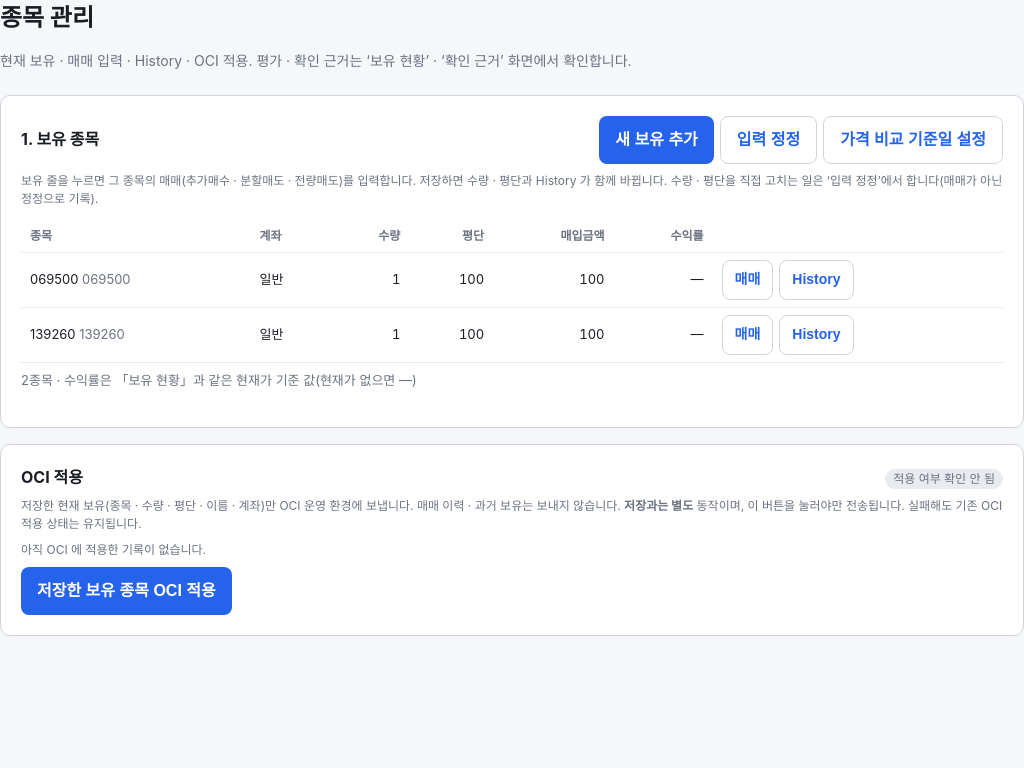
it: #1 비동기 종목명 조회가 정렬·삭제 후 엉뚱한 행을 안 건드린다 › 조회 진행 중 행이 삭제되면 늦게 온 응답은 어떤 행에도 적용되지 않는다
Click the button "입력 정정".
click(768, 140)  # box left=720, top=116, right=817, bottom=164
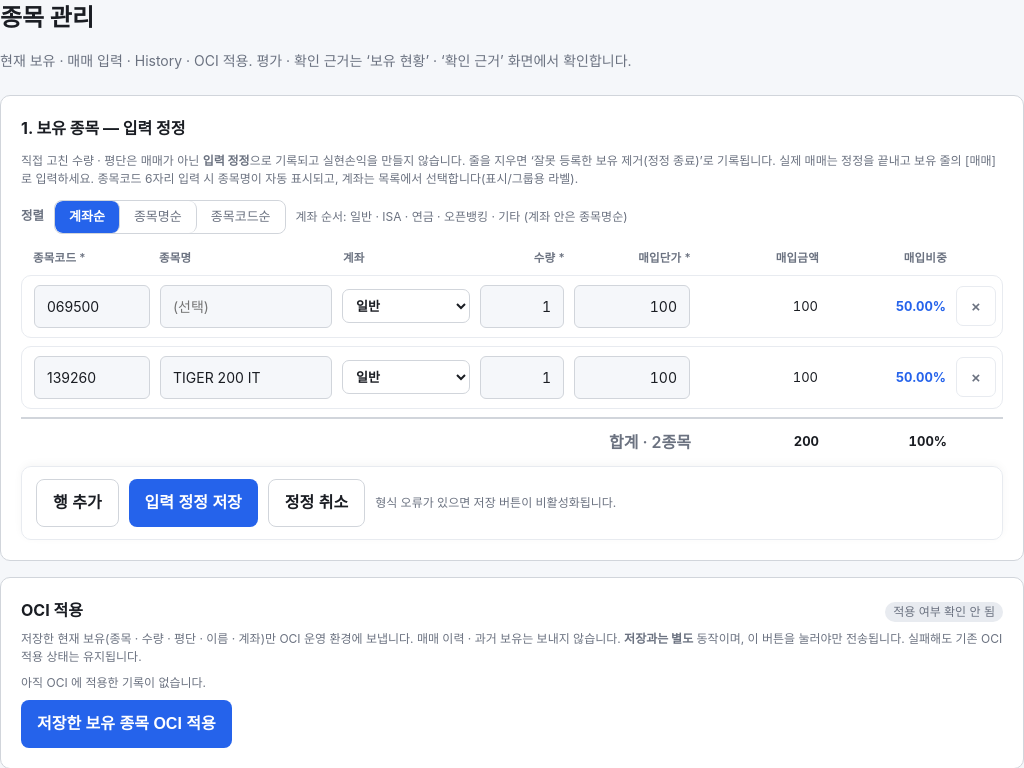
Expected: the field showing "TIGER 200 IT" is shown, left=160, top=356, right=332, bottom=399
Click the button named "이 행 삭제".
click(976, 306)  # box left=956, top=286, right=996, bottom=326
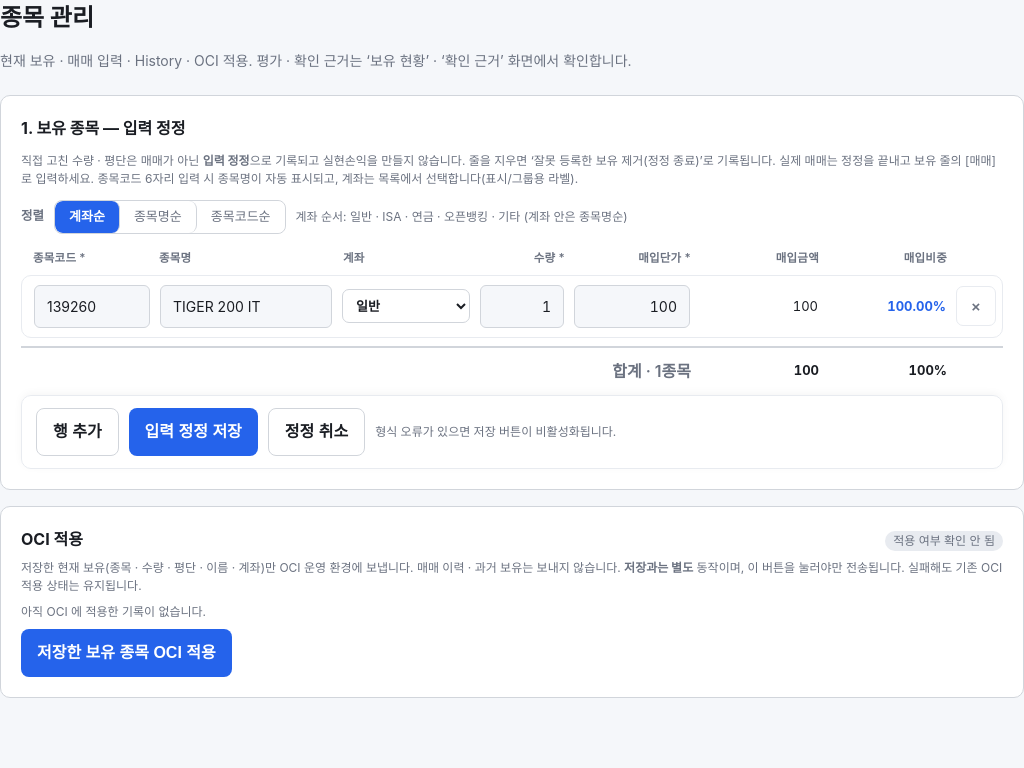
Expected: the field showing "TIGER 200 IT" is shown, left=160, top=285, right=332, bottom=328
